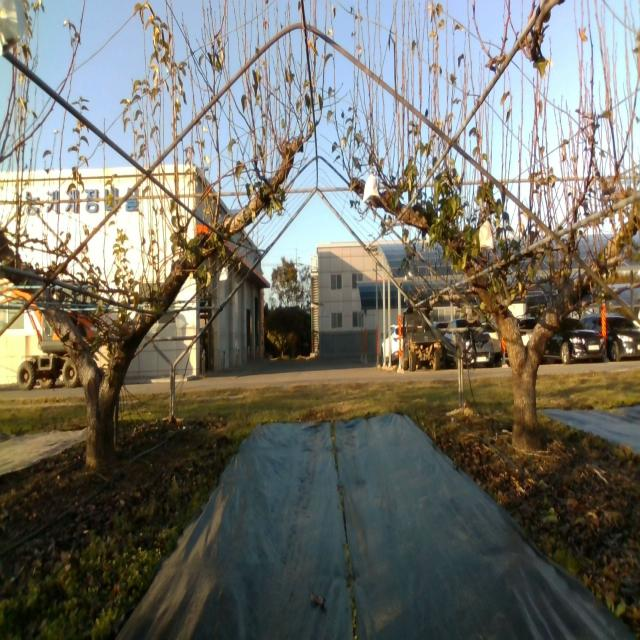pearbags: (0, 0, 28, 60), (478, 216, 494, 254), (362, 173, 380, 201)
